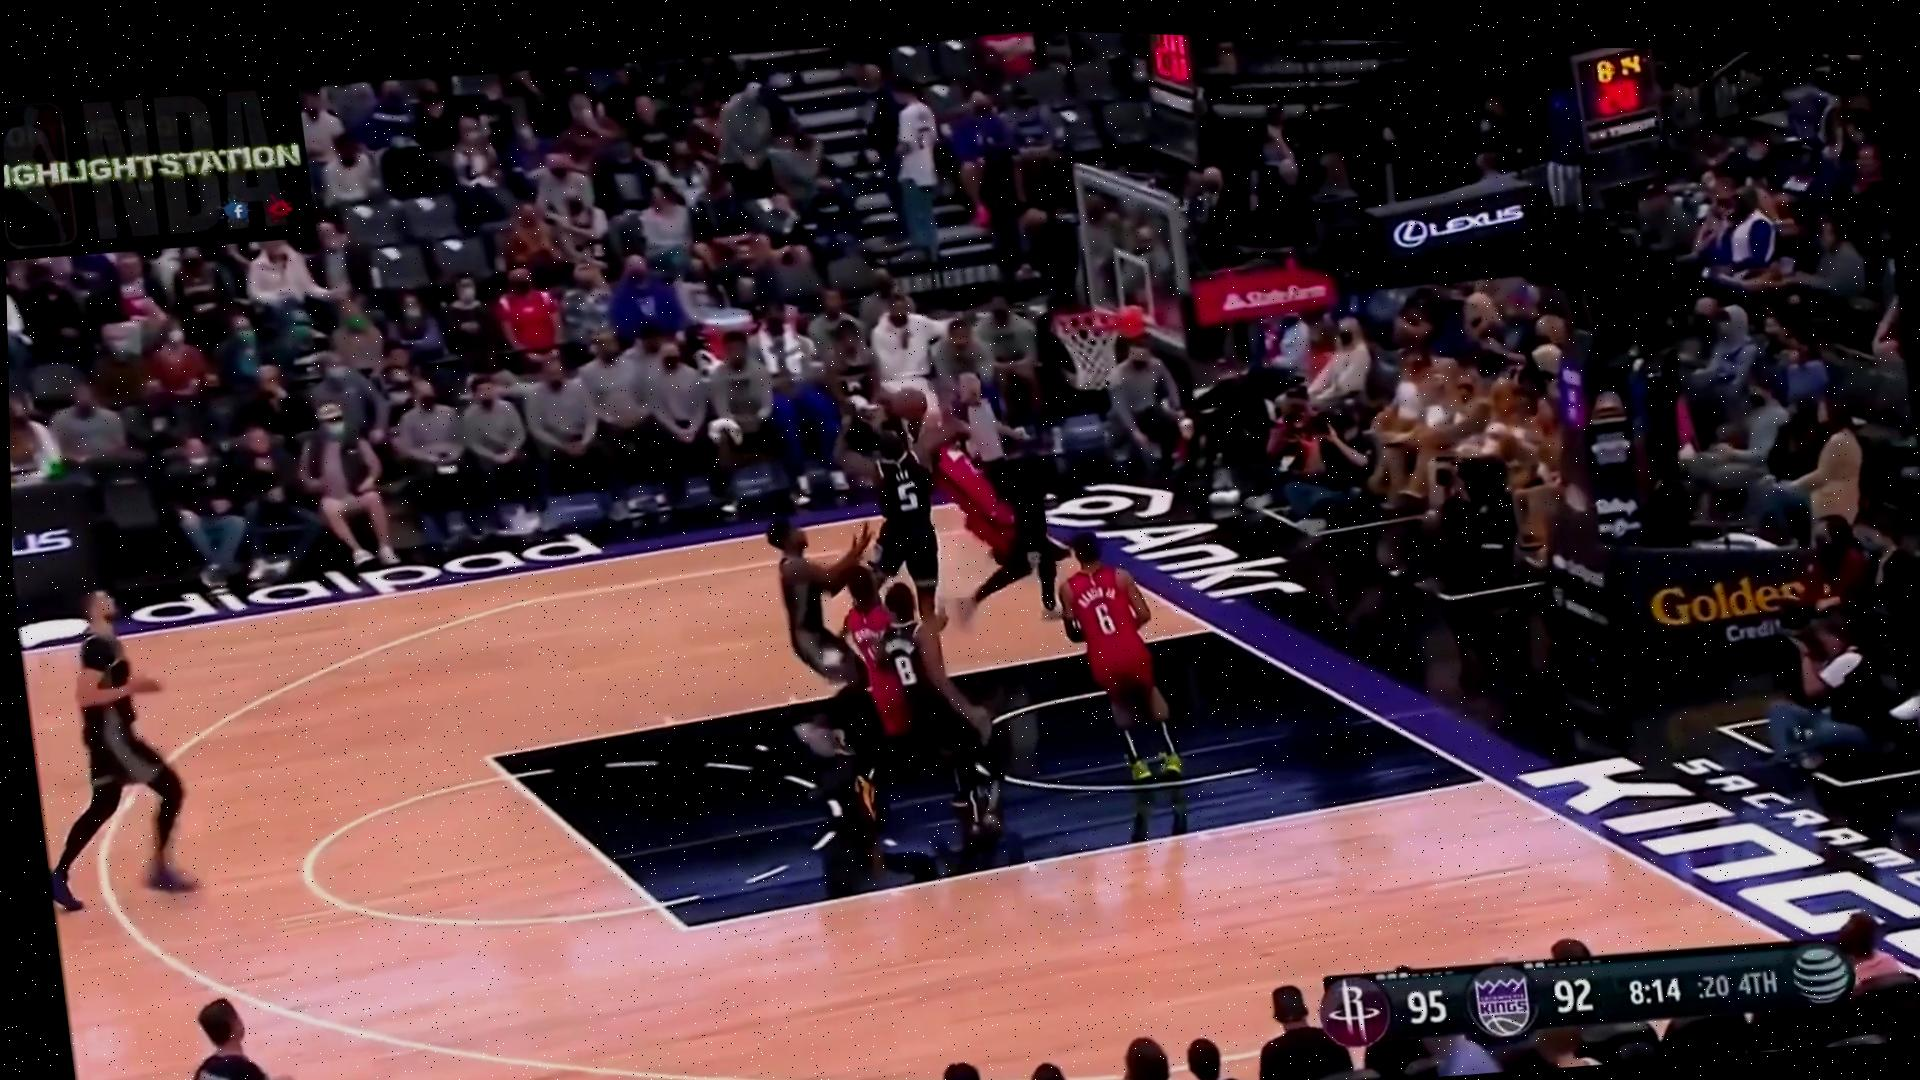foul: (840, 363, 1071, 609)
